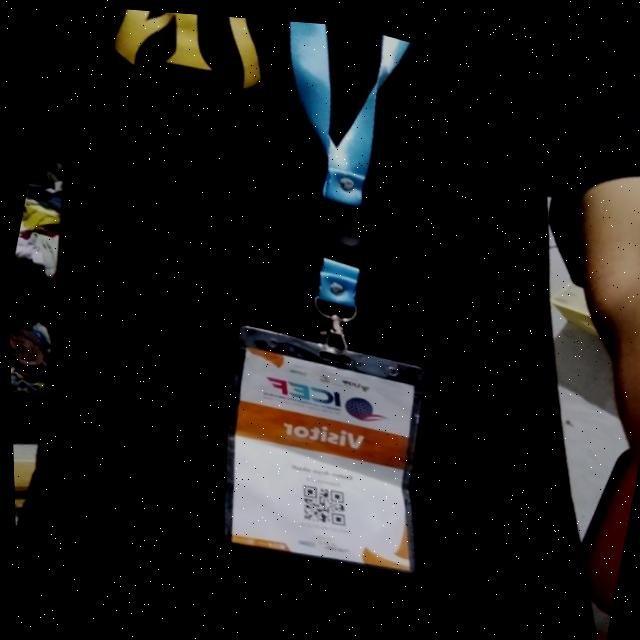id_card: (142, 8, 545, 612)
